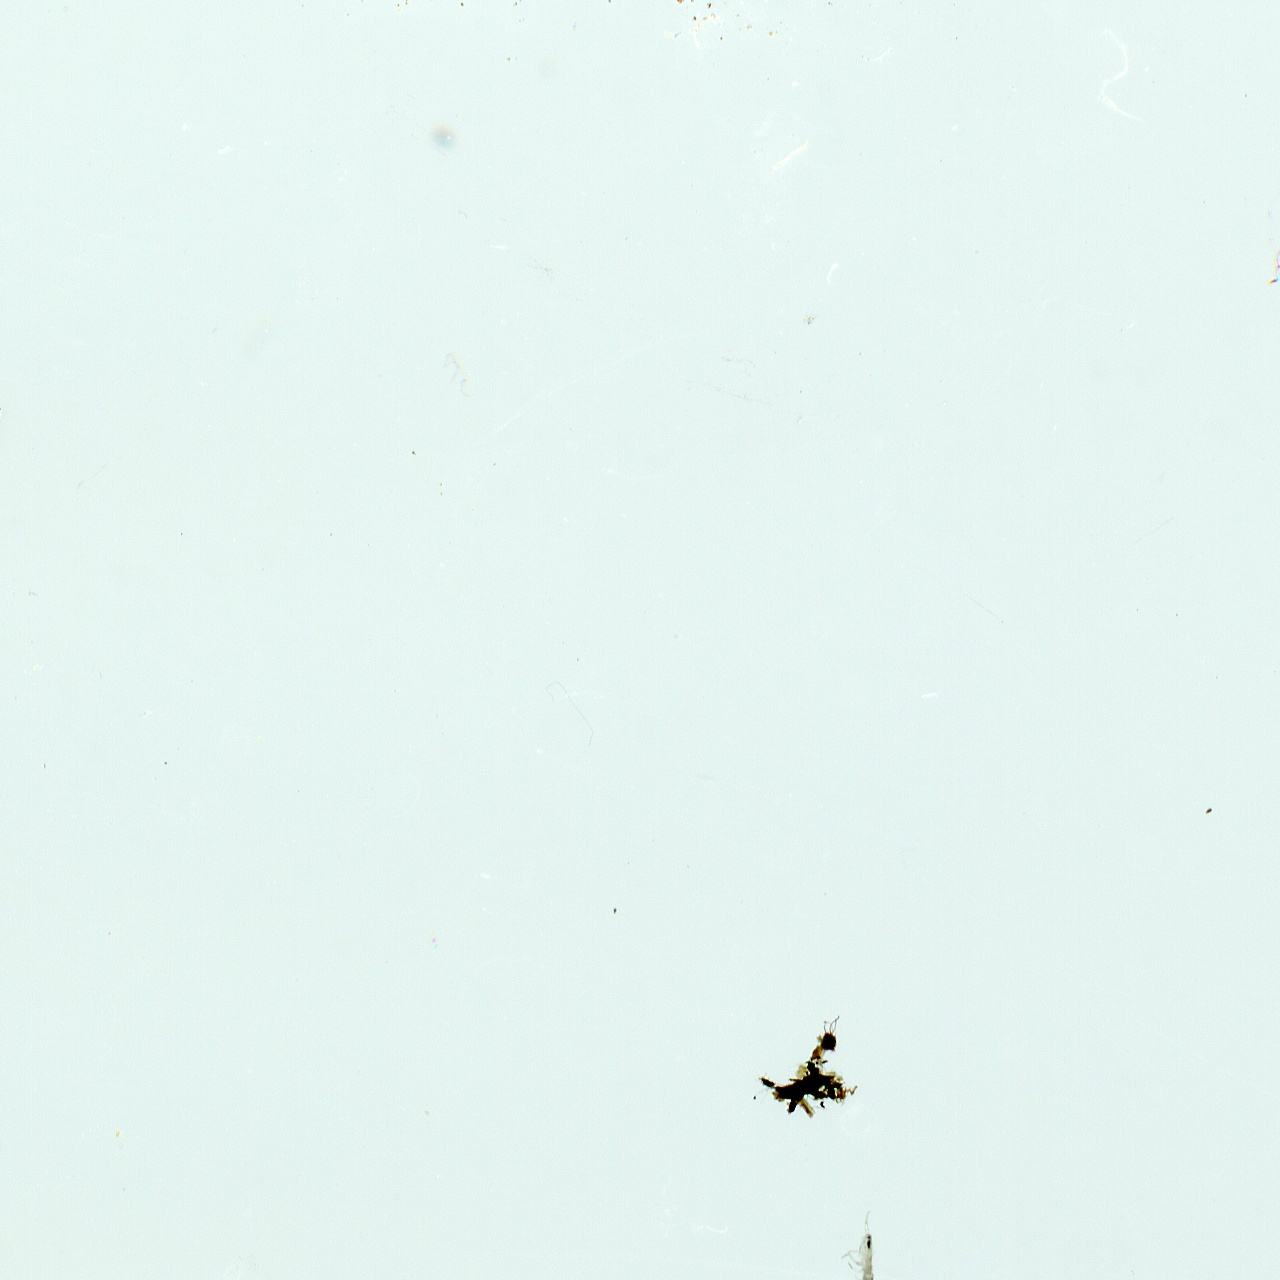arthropod: (837, 1205, 879, 1280)
